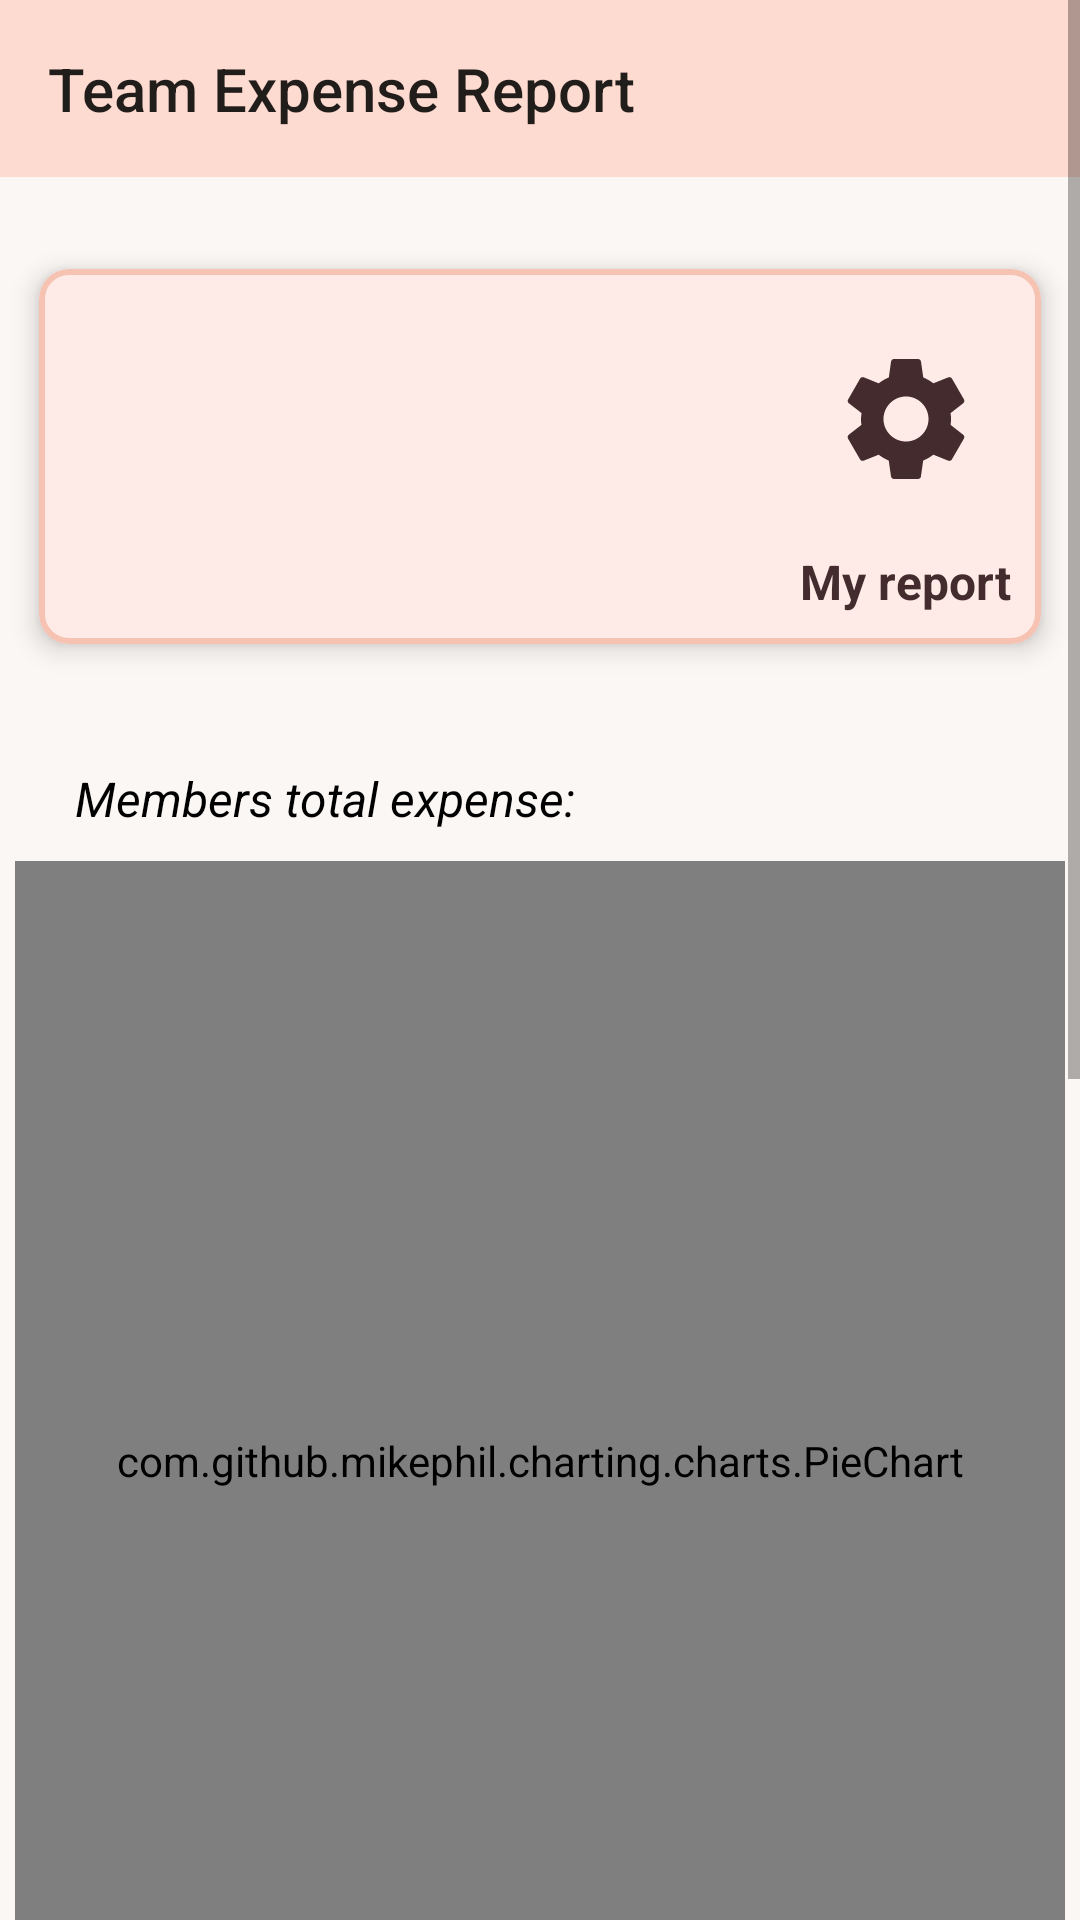

Screen size 1080*1920. Icon name, then its box in pixels as (left=x1, top=y1, right=x2, bottom=y2):
Settings: (left=847, top=359, right=965, bottom=479)
